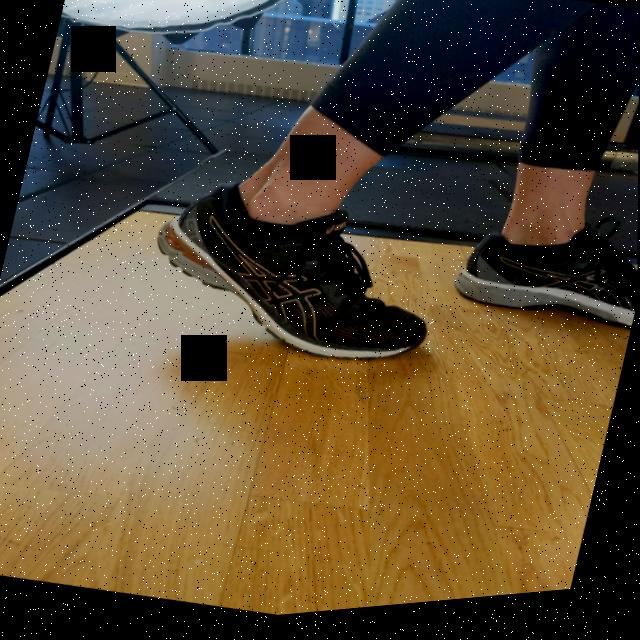shoes: (132, 153, 456, 398), (449, 203, 639, 352)
